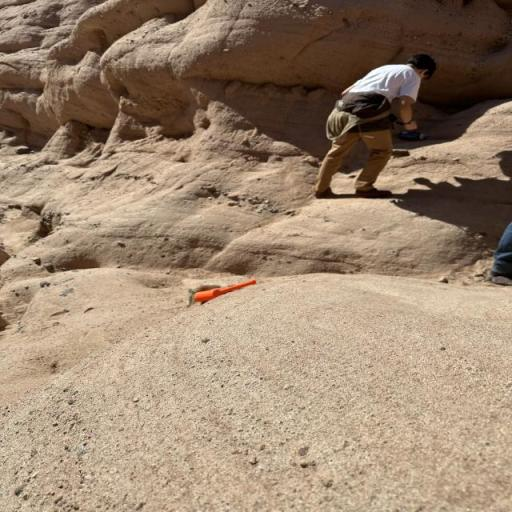mallet: (194, 280, 258, 302)
